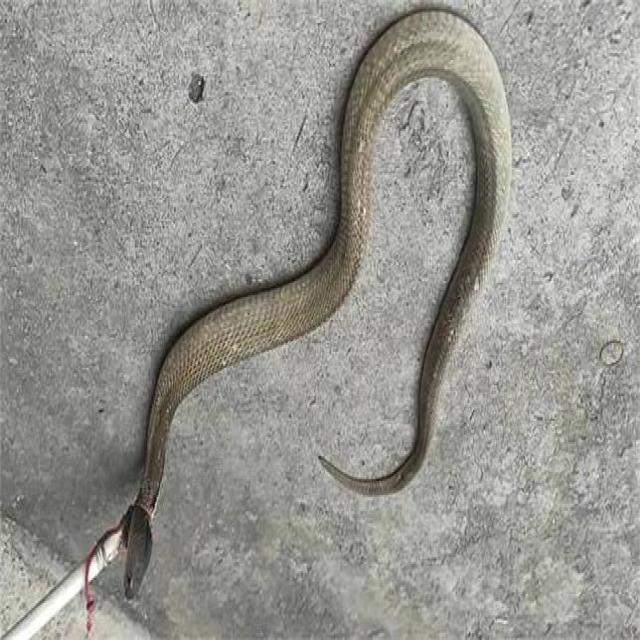Venomous: (96, 462, 179, 608)
